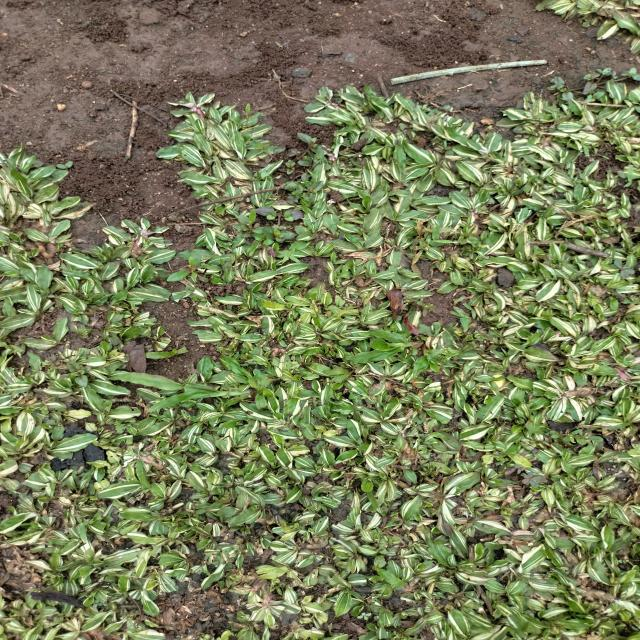bayi: (357, 611, 372, 622), (607, 458, 620, 464), (499, 3, 505, 10)
buah daun: (514, 462, 547, 488)
gingseng jawa: (167, 255, 203, 284), (548, 428, 606, 446), (230, 104, 266, 130), (234, 211, 263, 239)
rambat atas: (450, 303, 476, 328), (425, 227, 456, 247)
rambat bawah: (112, 374, 257, 411), (344, 338, 427, 362), (371, 554, 407, 587), (145, 347, 190, 361)
ungu tunggang: (257, 185, 325, 245), (550, 67, 640, 112), (253, 131, 327, 178), (65, 359, 92, 386)
